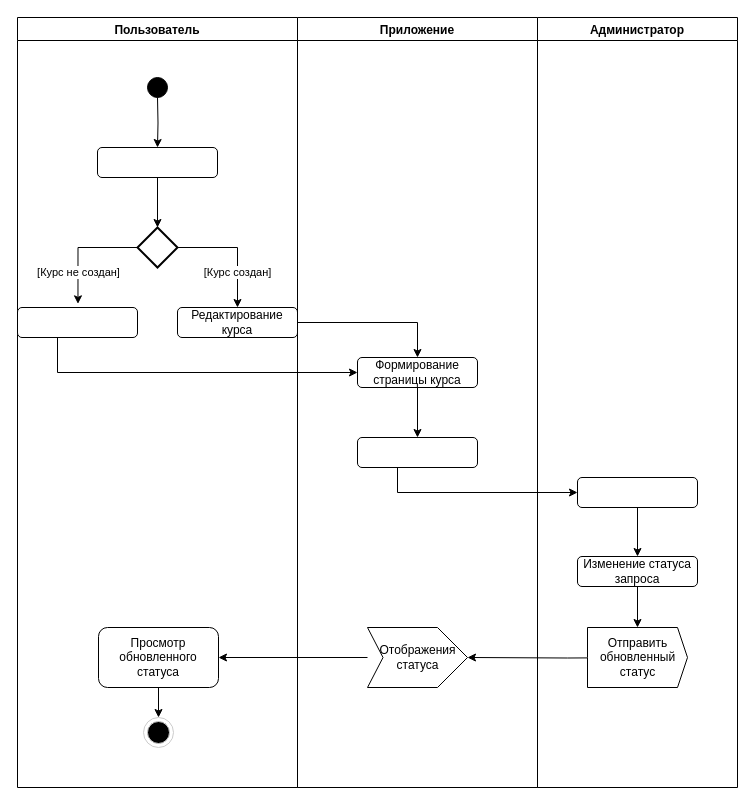
The diagram is 755 pixels wide and 805 high, and some of its shapes have lost their labels. Each missing label, with the centre of its shape:
"Взаимодействие с редактором курсов" goes at point 157,162.
"Запрос на подтверрждение" goes at point 417,452.
"Обработка запроса" goes at point 637,492.
"Создание курса" goes at point 77,322.
